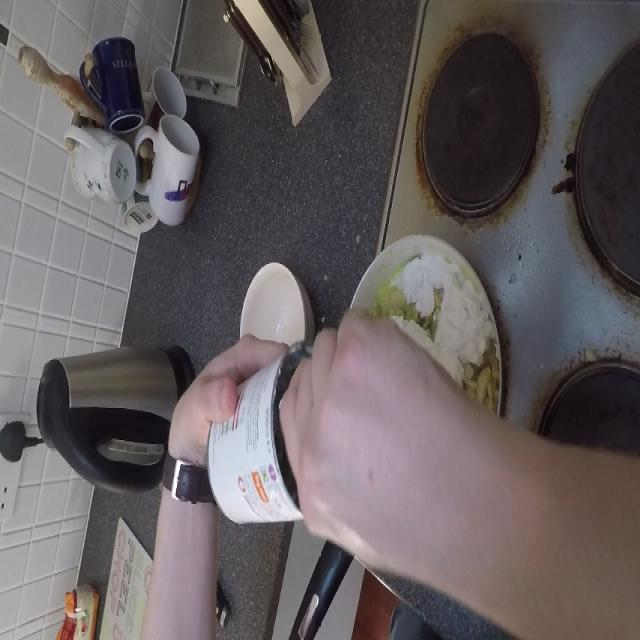bowl: (231, 256, 315, 352)
can: (203, 352, 325, 534)
hob: (409, 1, 640, 278)
kettle: (29, 338, 192, 500)
mug: (142, 109, 202, 236), (63, 121, 139, 202)
right hand: (286, 307, 494, 594)
